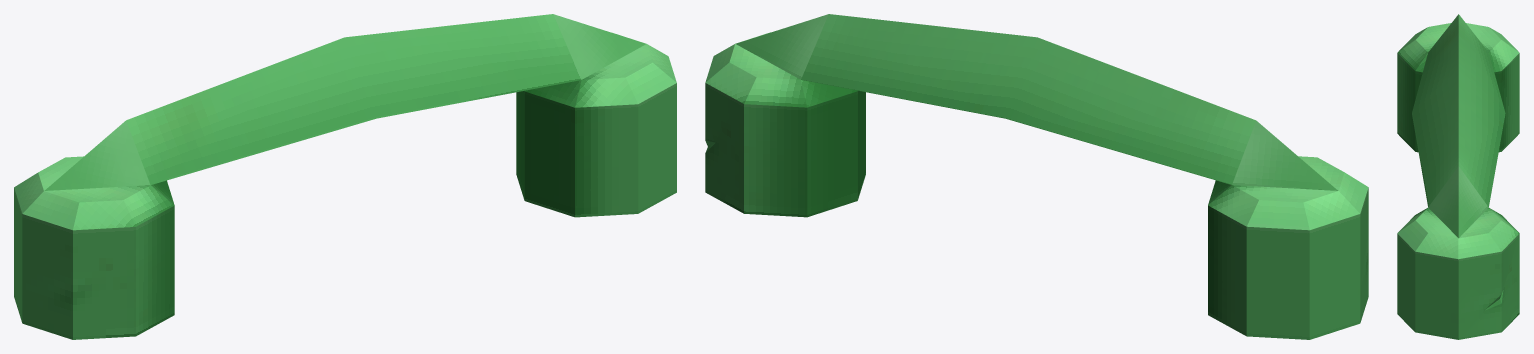
Rendered from tel2.glb.
The picture shows the model from 3 angles, left to right: view 1: azimuth 30°, elevation 25°; view 2: azimuth 150°, elevation 25°; view 3: azimuth 270°, elevation 25°; orthographic projection. The views are drawn at different scales.
Visible parts, largest first — view 1: telephone; view 2: telephone; view 3: telephone.
Boxes of the visible parts, left/top/right/bottom form: telephone: left=14, top=14, right=676, bottom=339; telephone: left=705, top=14, right=1368, bottom=339; telephone: left=1397, top=14, right=1519, bottom=339.
Bounding box in the file's own units: 0.0716 × 0.022 × 0.016.
1 material, 1 textured.
